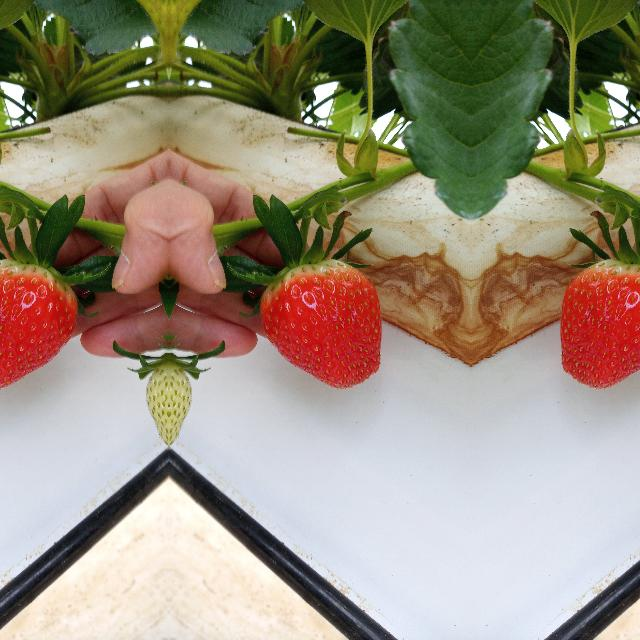Health_100: (259, 258, 381, 389), (560, 258, 640, 389), (0, 258, 77, 389)
